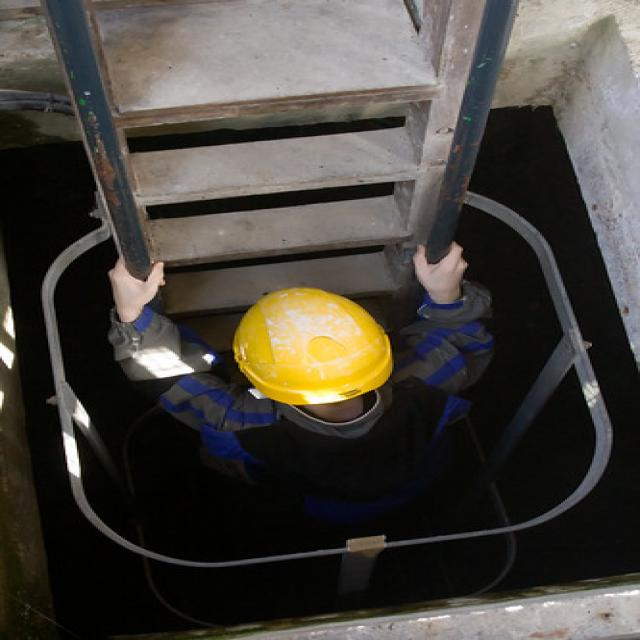Safety-Helmet: (225, 284, 396, 406)
